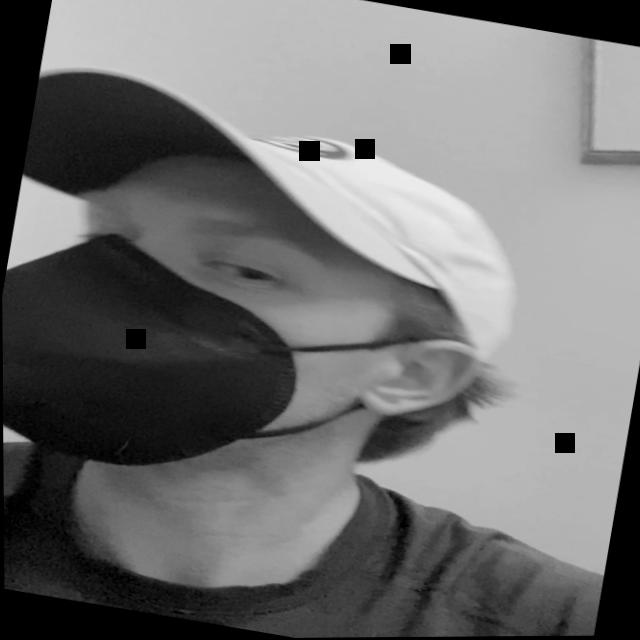Mask: (1, 130, 404, 508)
